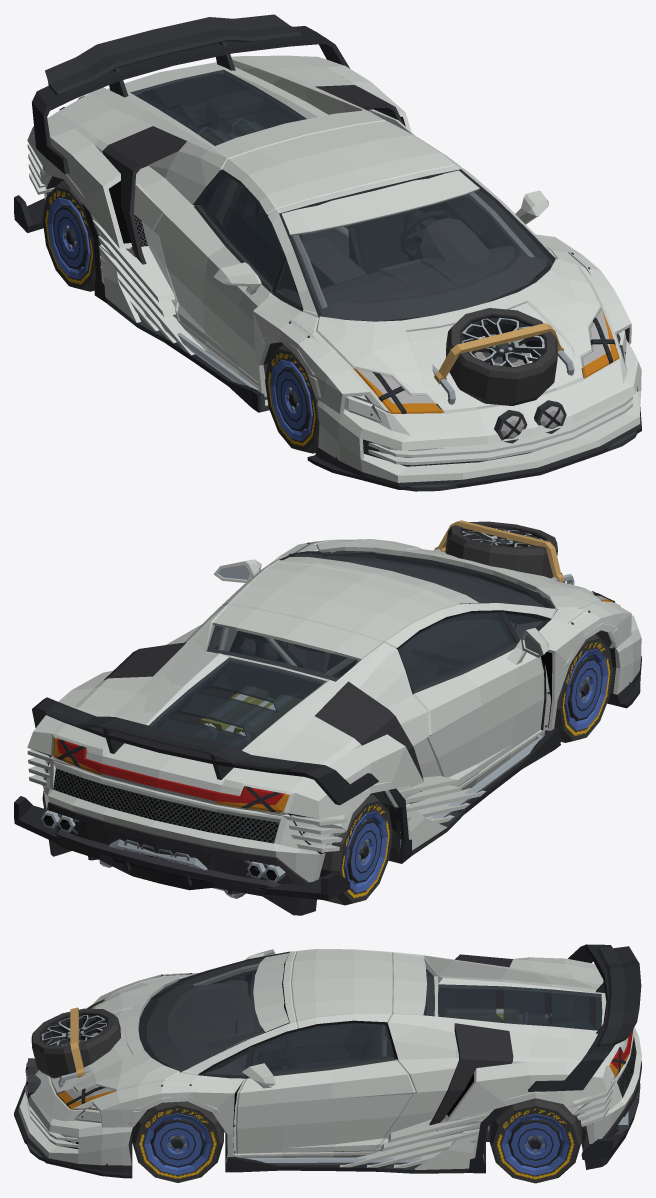
Rendered from redline_street_exotic.glb.
3 renders of one model, top to bottom at view 1: azimuth 30°, elevation 25°; view 2: azimuth 150°, elevation 25°; view 3: azimuth 270°, elevation 25°, orthographic. The views are drawn at different scales.
Parts seen in each view (by area): view 1: Body, Glass, V_Front_Bumper_04, Door_R, V_Fenders_04, V_Bonnet_03, V_Spoiler_02, V_Side_Skirts_04, V_Bonnet_01, V_Spoiler_04, V_Windscreen_Sticker_01, V_Bonnet_02 (+14 smaller); view 2: Body, Door_R, Glass, V_Rear_Bumper_01, V_Fenders_04, V_Rear_Bumper_02, V_Rear_Bumper_03, V_Bonnet_03, V_Rear_Bumper_04, V_Side_Skirts_04, V_Spoiler_02, V_Spoiler_04 (+15 smaller); view 3: Body, Door_L, Glass, V_Fenders_04, V_Front_Bumper_04, V_Bonnet_03, V_Side_Skirts_04, W_Wheel_RL_03, W_Wheel_FL_03, V_Spoiler_02, V_Spoiler_04, V_Windscreen_Sticker_01 (+21 smaller).
Boxes of the visible parts, x1=… form: Body: x1=52, y1=55, x2=620, y2=413; Glass: x1=130, y1=69, x2=552, y2=321; V_Front_Bumper_04: x1=307, y1=340, x2=641, y2=489; Door_R: x1=154, y1=171, x2=284, y2=381; V_Fenders_04: x1=27, y1=56, x2=631, y2=414; V_Bonnet_03: x1=316, y1=267, x2=593, y2=412; V_Spoiler_02: x1=45, y1=14, x2=300, y2=97; V_Side_Skirts_04: x1=81, y1=202, x2=269, y2=412; V_Bonnet_01: x1=317, y1=262, x2=589, y2=409; V_Spoiler_04: x1=31, y1=26, x2=349, y2=174; V_Windscreen_Sticker_01: x1=282, y1=170, x2=479, y2=235; V_Bonnet_02: x1=318, y1=259, x2=601, y2=409; Body: x1=51, y1=539, x2=620, y2=814; Door_R: x1=398, y1=612, x2=548, y2=786; Glass: x1=149, y1=553, x2=548, y2=750; V_Rear_Bumper_01: x1=43, y1=762, x2=325, y2=899; V_Fenders_04: x1=27, y1=540, x2=631, y2=818; V_Rear_Bumper_02: x1=45, y1=756, x2=316, y2=915; V_Rear_Bumper_03: x1=43, y1=757, x2=319, y2=898; V_Bonnet_03: x1=316, y1=520, x2=593, y2=608; V_Rear_Bumper_04: x1=14, y1=749, x2=350, y2=900; V_Side_Skirts_04: x1=382, y1=728, x2=560, y2=863; V_Spoiler_02: x1=45, y1=703, x2=300, y2=779; V_Spoiler_04: x1=32, y1=697, x2=378, y2=805; Body: x1=57, y1=949, x2=633, y2=1161; Door_L: x1=236, y1=1023, x2=415, y2=1153; Glass: x1=146, y1=958, x2=602, y2=1074; V_Fenders_04: x1=92, y1=957, x2=612, y2=1156; V_Front_Bumper_04: x1=14, y1=1070, x2=132, y2=1178; V_Bonnet_03: x1=31, y1=978, x2=179, y2=1094; V_Side_Skirts_04: x1=225, y1=1106, x2=506, y2=1173; W_Wheel_RL_03: x1=489, y1=1098, x2=581, y2=1183; W_Wheel_FL_03: x1=132, y1=1101, x2=223, y2=1182; V_Spoiler_02: x1=596, y1=946, x2=641, y2=1046; V_Spoiler_04: x1=528, y1=944, x2=614, y2=1091; V_Windscreen_Sticker_01: x1=253, y1=953, x2=288, y2=1031.
Bounding box in the file's own units: 2.22 × 1.19 × 4.53.
5 materials, 3 textured.
